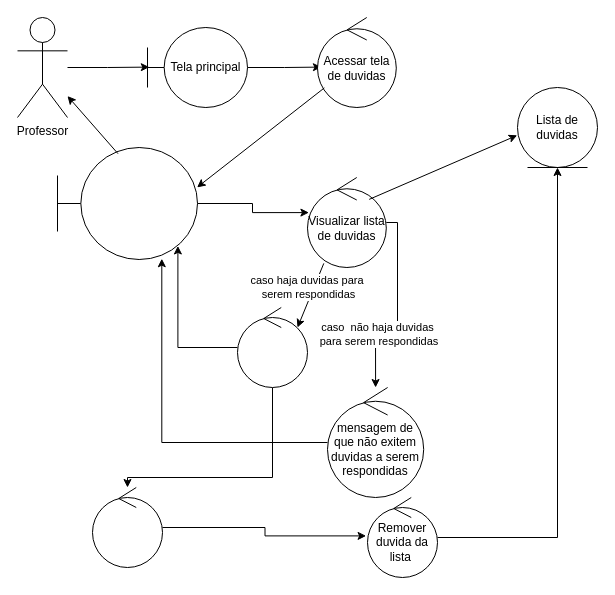
The diagram is 615 pixels wide and 595 high, and some of its shapes have lost their labels. The centre of each missing label's shape, as x and y in pixels:
Exibir duvida: the point at 272,347
Responder duvida: the point at 127,527
Tela de duvidas: the point at 127,203
